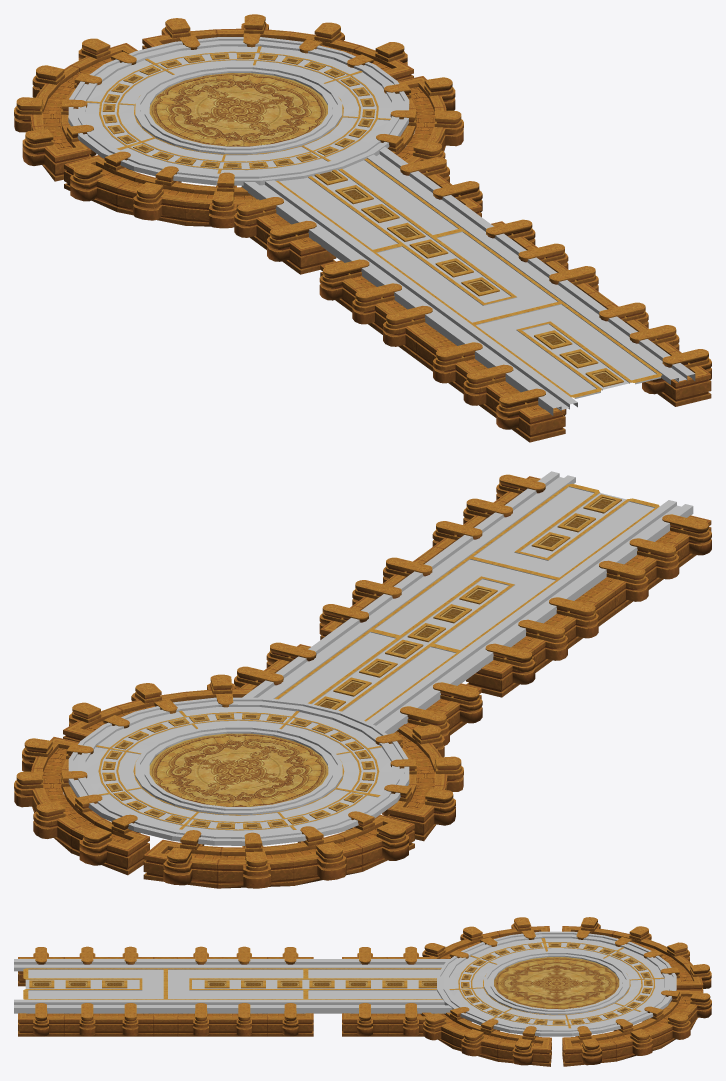
File: Stage_01_03.FBX
3 renders of one model, top to bottom at view 1: azimuth 30°, elevation 25°; view 2: azimuth 150°, elevation 25°; view 3: azimuth 270°, elevation 25°, orthographic. The views are drawn at different scales.
Visible parts, largest first — view 1: Stage_01_03; view 2: Stage_01_03; view 3: Stage_01_03.
Boxes of the visible parts, box(x1,y1,x2,y2) form: Stage_01_03: box(14, 14, 711, 442); Stage_01_03: box(14, 471, 711, 888); Stage_01_03: box(14, 917, 711, 1066).
Size of the model in its own units: 3674 by 303 by 8252.
